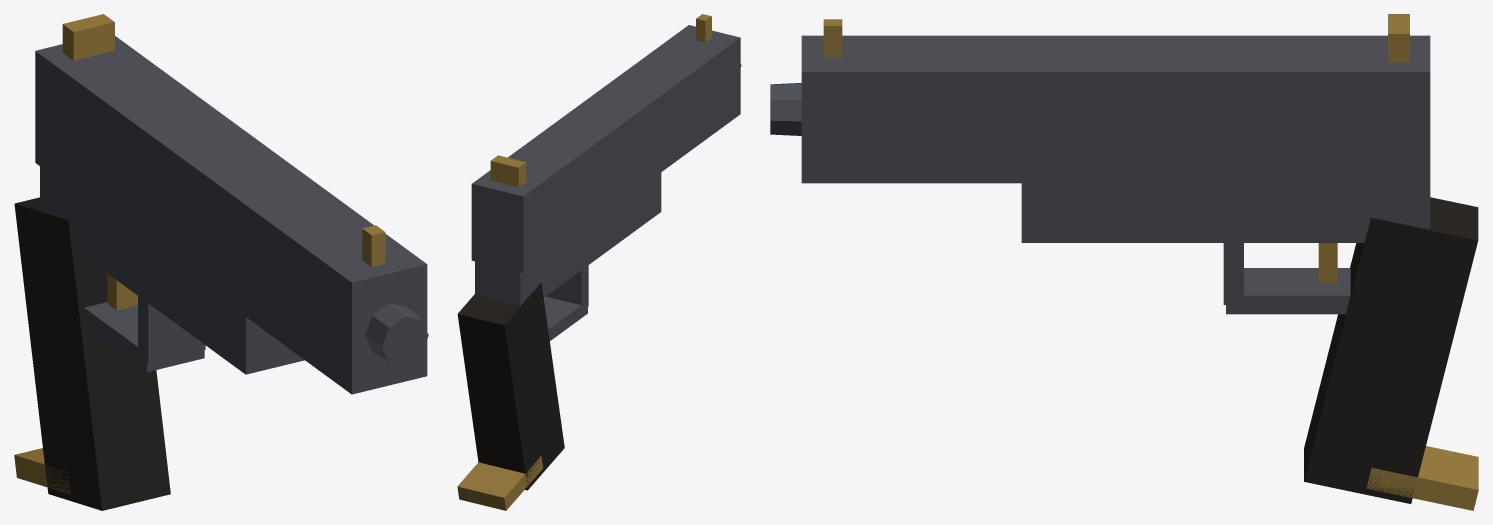
File: pistol.obj
3 renders of one model, left to right at view 1: azimuth 30°, elevation 25°; view 2: azimuth 150°, elevation 25°; view 3: azimuth 270°, elevation 25°, orthographic. The views are drawn at different scales.
Bounding box in the file's own units: 0.033 × 0.1987 × 0.2705.
